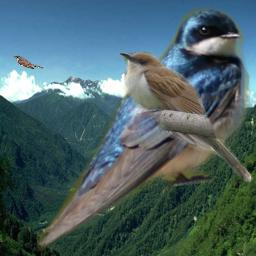Cuckoo: (118, 52, 253, 183), (13, 55, 44, 70)
Swallow: (37, 3, 251, 255)
